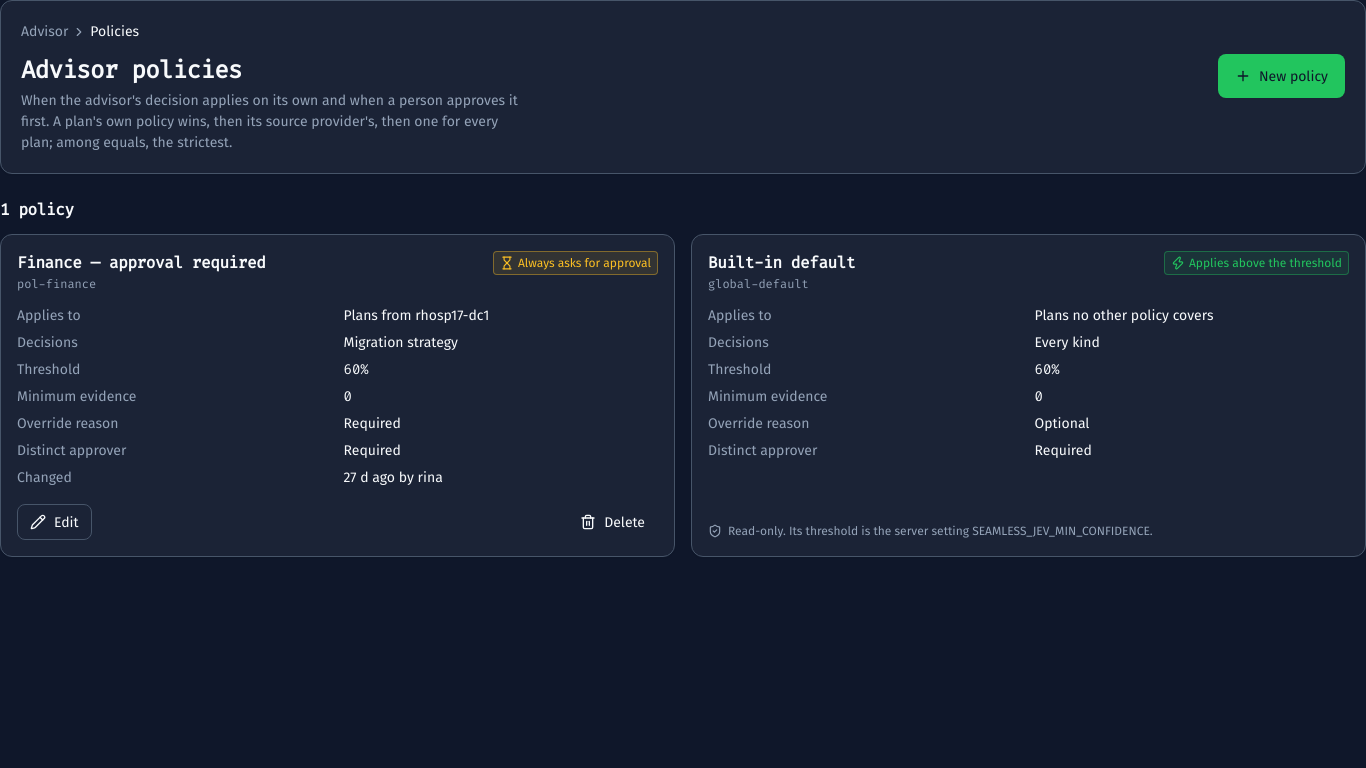
Scenario: the advisor policy texts name a provider stored blank by its id (SDD §1 naming, §4.2, review RV22-01) › the policy dialog's source-provider choice reads the provider's id, never its blank name
Check: the heading "1 policy" is shown, box x1=0 y1=199 x2=74 y2=220
Click the button "Edit" at (54, 522), box x1=17 y1=504 x2=92 y2=540
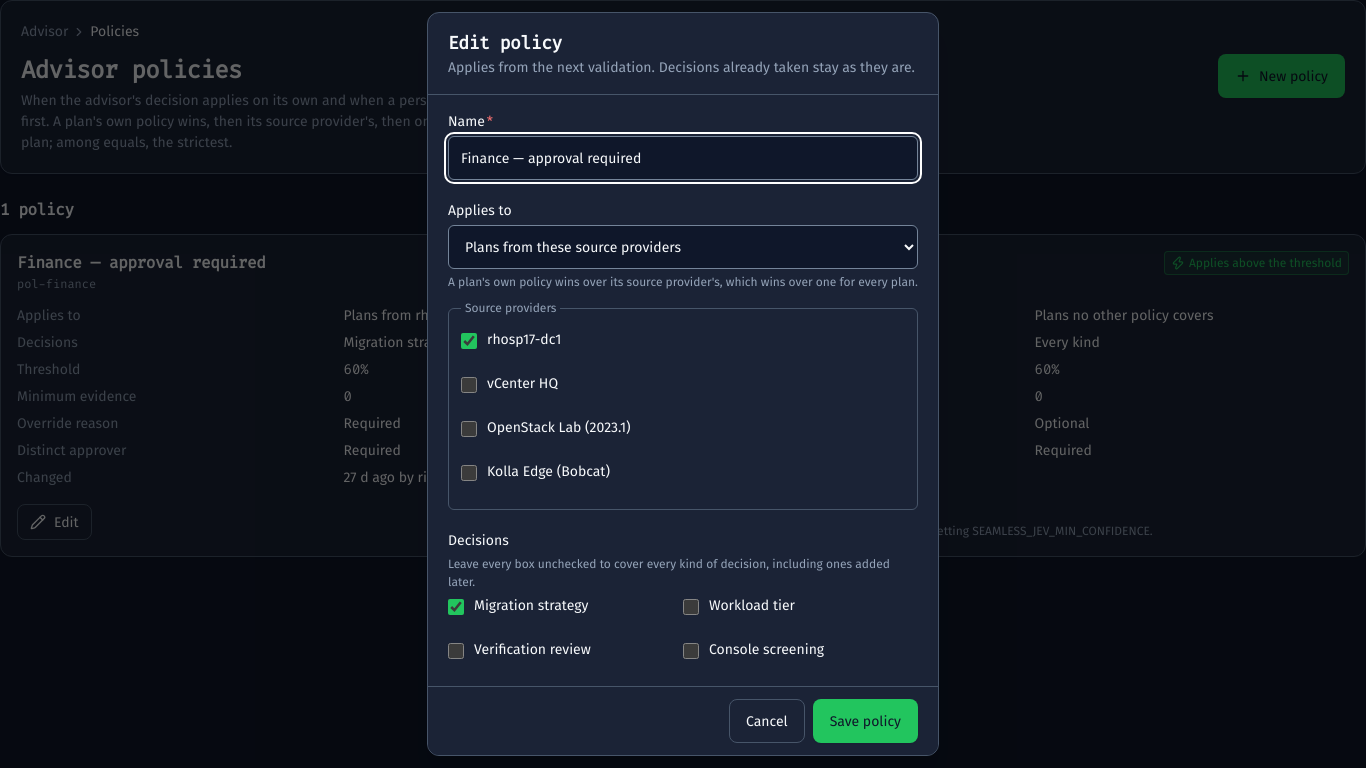
Check: the checkbox labelled "rhosp17-dc1" is checked, box x1=461 y1=333 x2=477 y2=349
